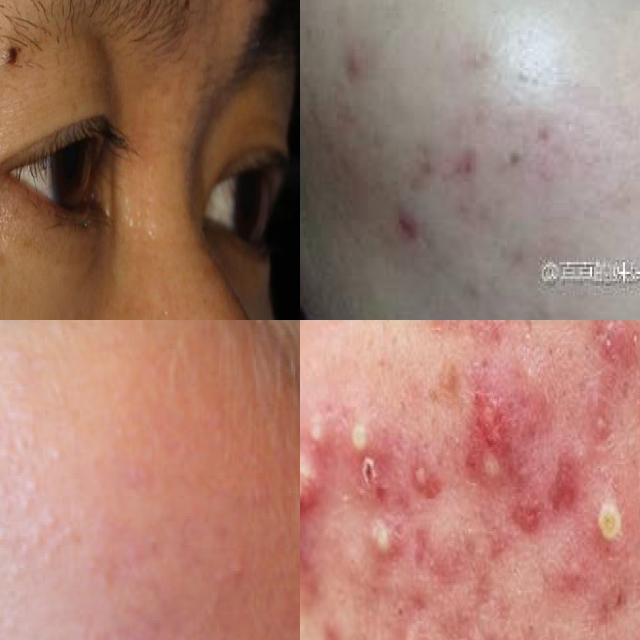acne_scars: (539, 451, 588, 533), (407, 514, 442, 592)
comedone: (0, 34, 22, 78)
crystanlline: (460, 397, 511, 524), (300, 410, 333, 571)
pustule: (586, 480, 639, 566), (366, 499, 401, 579), (341, 397, 374, 474)
